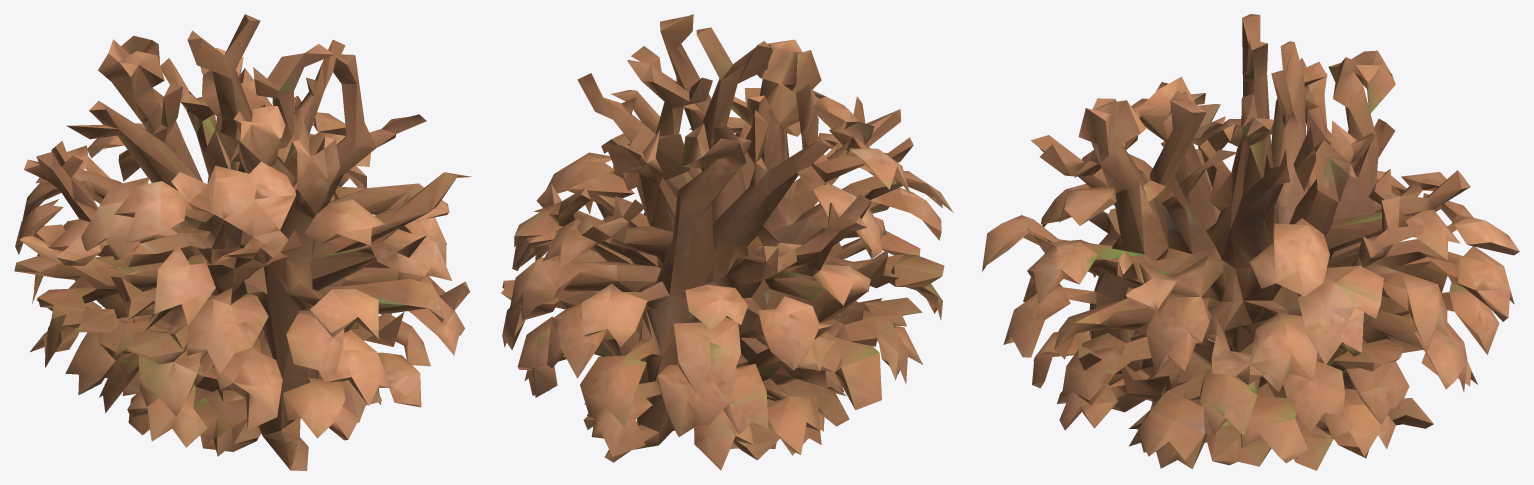
File: arbusto_otono_anterior.glb
3 renders of one model, left to right at view 1: azimuth 30°, elevation 25°; view 2: azimuth 150°, elevation 25°; view 3: azimuth 270°, elevation 25°, orthographic. The views are drawn at different scales.
Parts seen in each view (by area): view 1: arbusto_otono_malla; view 2: arbusto_otono_malla; view 3: arbusto_otono_malla.
Boxes of the visible parts, x1,y1,x2,y2 form: arbusto_otono_malla: (14,14,471,470); arbusto_otono_malla: (501,14,953,470); arbusto_otono_malla: (982,14,1519,470).
Size of the model in its own units: 0.178 by 0.1746 by 0.2196.
Materials: 1 (1 with a texture image).
